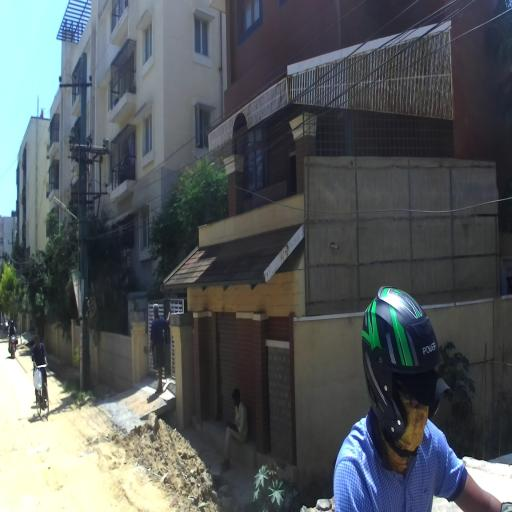street_light_0: (52, 197, 80, 228)
